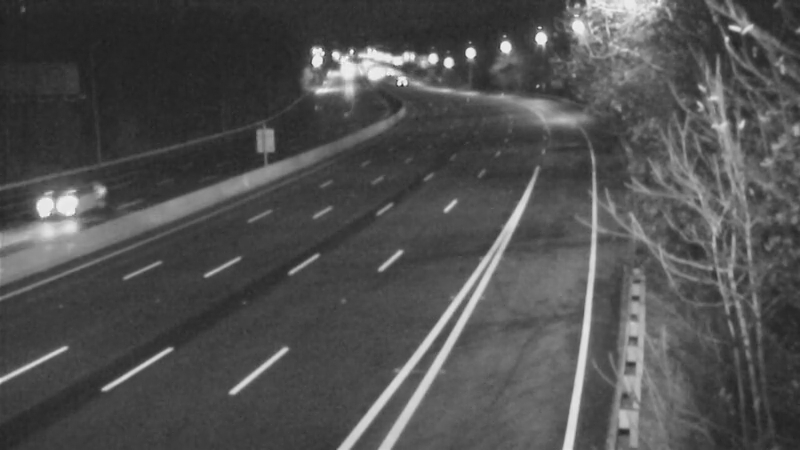vehicle: (12, 158, 92, 238), (371, 57, 421, 107), (344, 49, 394, 99)
